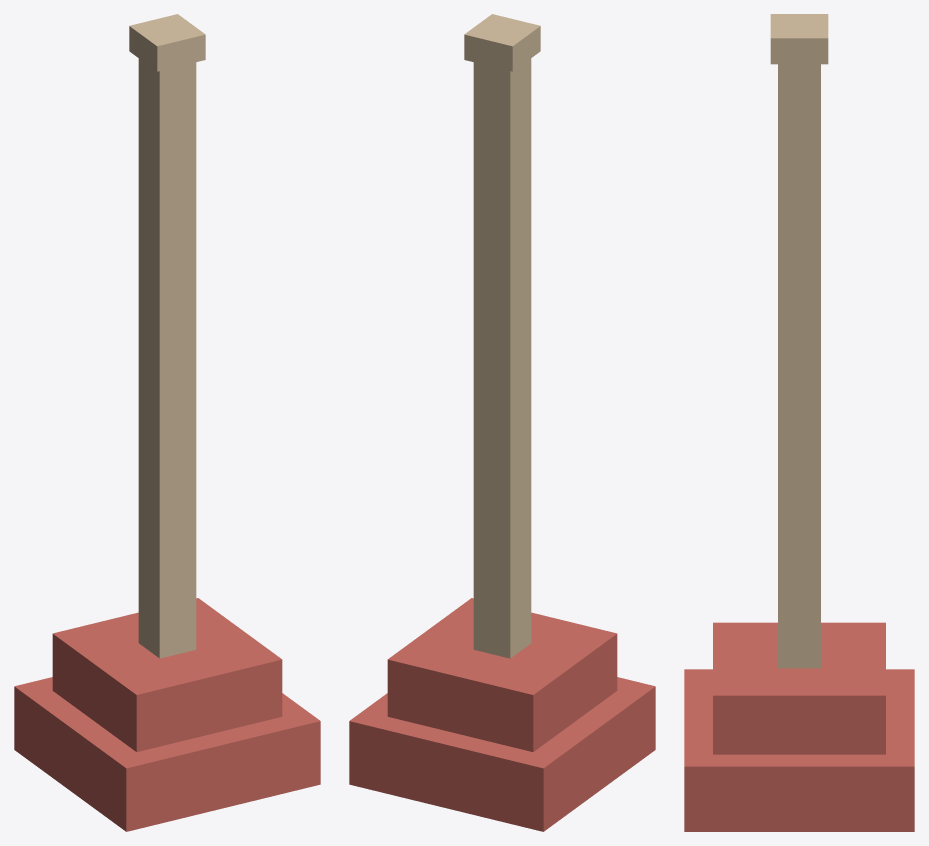
File: plunger.gltf
The picture shows the model from 3 angles, left to right: view 1: azimuth 30°, elevation 25°; view 2: azimuth 150°, elevation 25°; view 3: azimuth 270°, elevation 25°; orthographic projection. The views are drawn at different scales.
Visible parts, largest first — view 1: Handle, CupOuter, CupInner, TopCap; view 2: Handle, CupOuter, CupInner, TopCap; view 3: Handle, CupOuter, CupInner, TopCap.
Boxes of the visible parts, box(x1,y1,x2,y2) form: Handle: box(138, 58, 196, 658); CupOuter: box(14, 677, 320, 831); CupInner: box(52, 598, 282, 751); TopCap: box(129, 14, 205, 71); Handle: box(473, 58, 531, 658); CupOuter: box(349, 677, 655, 831); CupInner: box(387, 598, 617, 751); TopCap: box(464, 14, 540, 71); Handle: box(778, 64, 820, 668); CupOuter: box(684, 669, 914, 831); CupInner: box(713, 622, 885, 754); TopCap: box(770, 14, 828, 64).
Bounding box in the file's own units: 0.01 × 0.0362 × 0.01.
